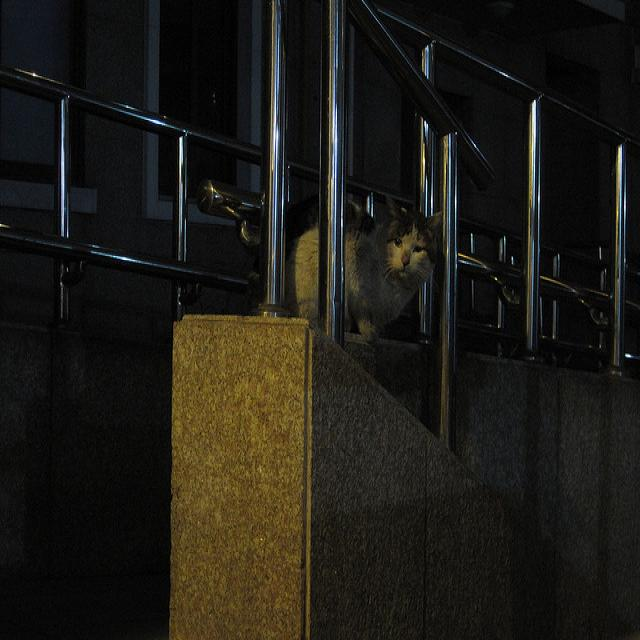Cat: (244, 168, 450, 363)
